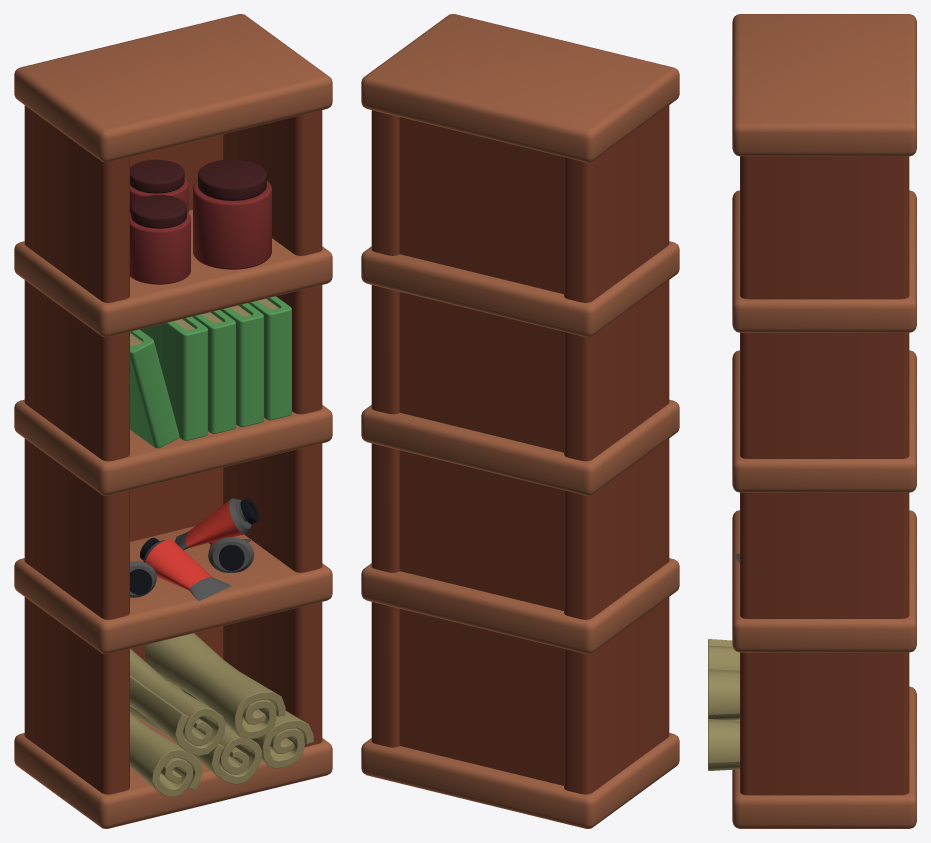
The model's file is art_drawer_01.fbx.
The picture shows the model from 3 angles, left to right: view 1: azimuth 30°, elevation 25°; view 2: azimuth 150°, elevation 25°; view 3: azimuth 270°, elevation 25°; orthographic projection.
Visible parts, largest first — view 1: Cube.071, Cube.142, Vert.016, scroll_high.009, Vert.015, scroll_high.010, Cube.140, scroll_high.008, Cylinder.009, scroll_high.007, Cylinder.013, scroll_high.006 (+3 smaller); view 2: Cube.071; view 3: Cube.071, scroll_high.006, scroll_high.009, scroll_high.010.
Part boxes in pixels (x1=…): Cube.071: x1=14, y1=14, x2=332, y2=828; Cube.142: x1=140, y1=296, x2=291, y2=440; Vert.016: x1=193, y1=159, x2=271, y2=269; scroll_high.009: x1=144, y1=633, x2=285, y2=738; Vert.015: x1=130, y1=195, x2=190, y2=284; scroll_high.010: x1=130, y1=648, x2=225, y2=755; Cube.140: x1=129, y1=329, x2=179, y2=448; scroll_high.008: x1=130, y1=713, x2=202, y2=797; Cylinder.009: x1=140, y1=537, x2=230, y2=601; scroll_high.007: x1=130, y1=681, x2=262, y2=784; Cylinder.013: x1=174, y1=498, x2=259, y2=550; scroll_high.006: x1=181, y1=689, x2=313, y2=768; Cube.071: x1=361, y1=14, x2=679, y2=828; Cube.071: x1=732, y1=14, x2=916, y2=828; scroll_high.006: x1=708, y1=719, x2=739, y2=770; scroll_high.009: x1=708, y1=669, x2=739, y2=720; scroll_high.010: x1=708, y1=639, x2=739, y2=670.
Bounding box in the file's own units: 63.84 × 183 × 49.19.
